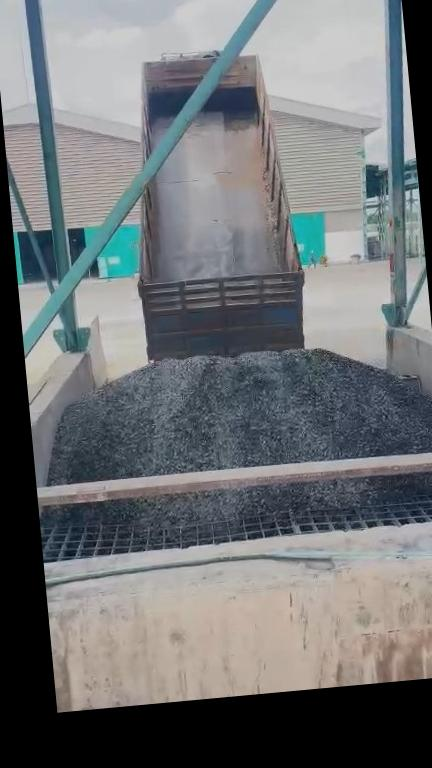gravel: (49, 350, 432, 482), (46, 473, 432, 525)
